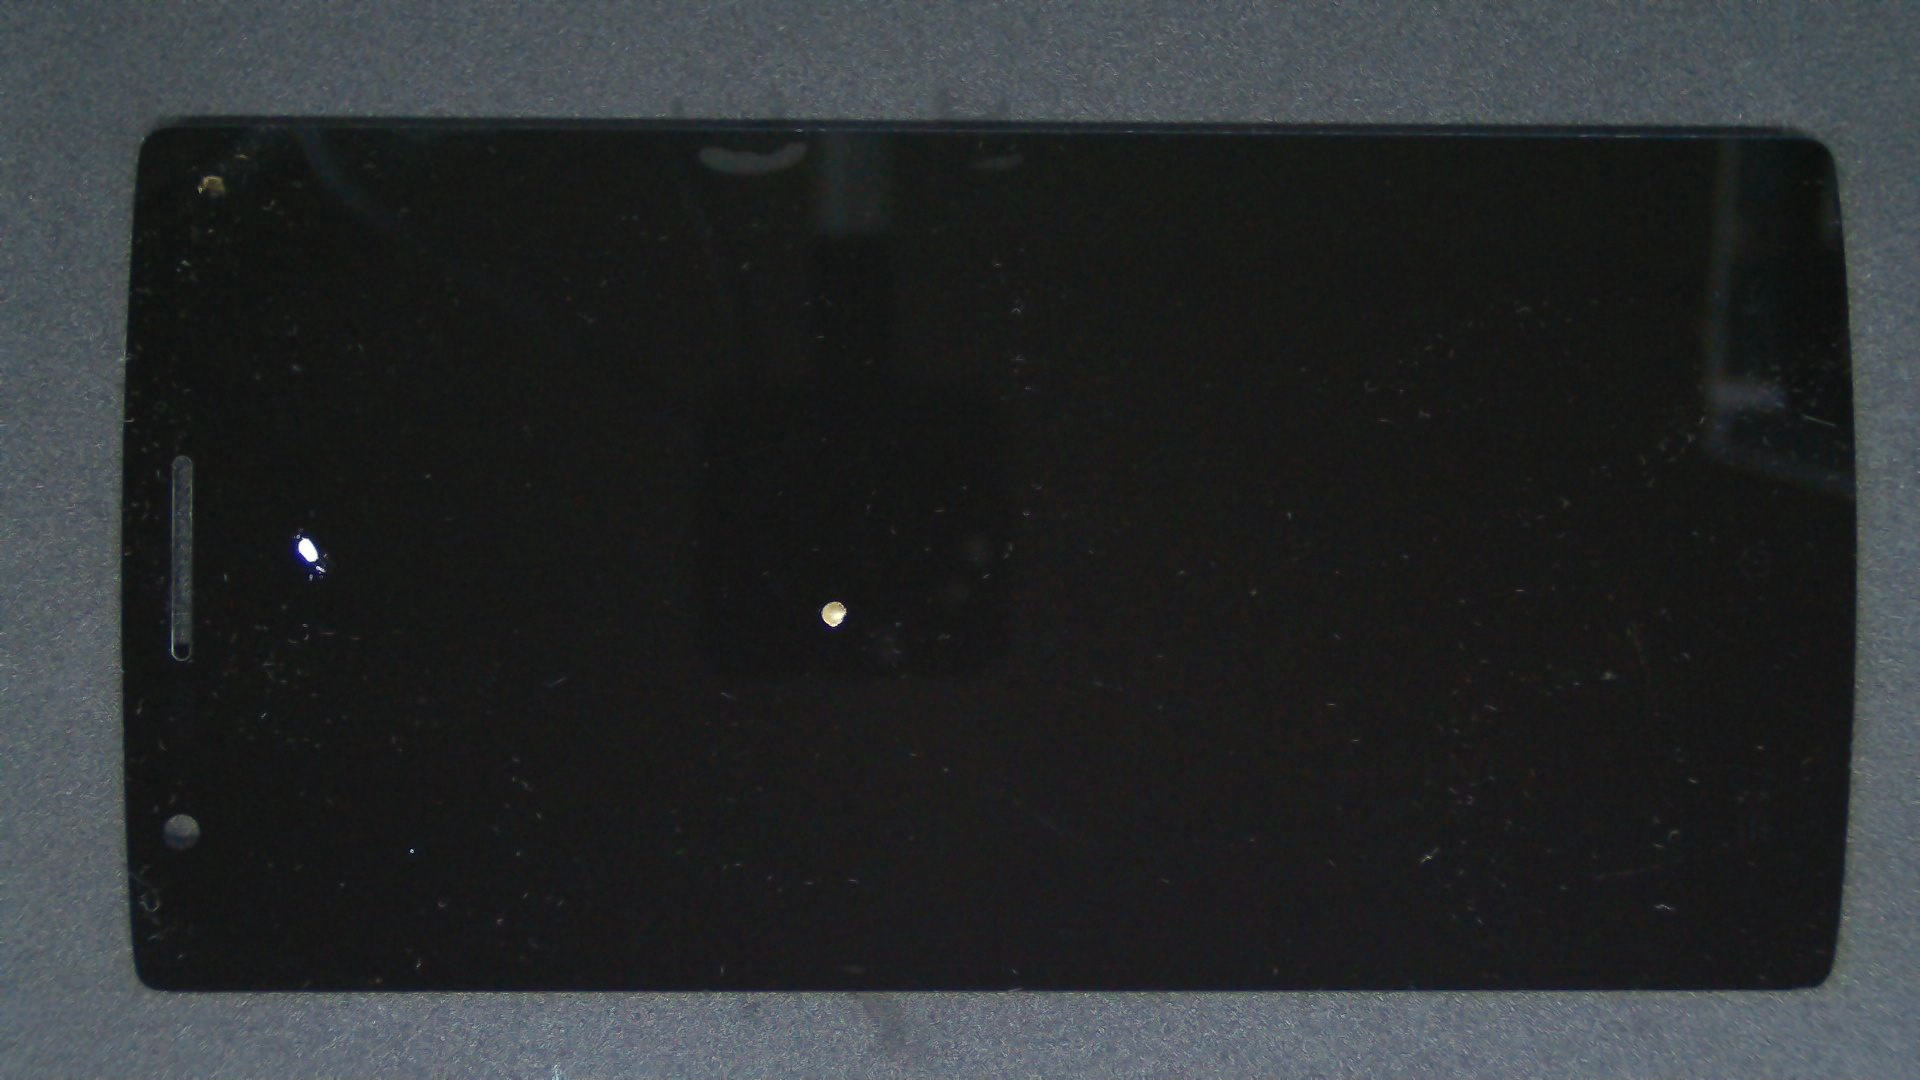oil: (417, 299, 1247, 901), (152, 262, 452, 791)
